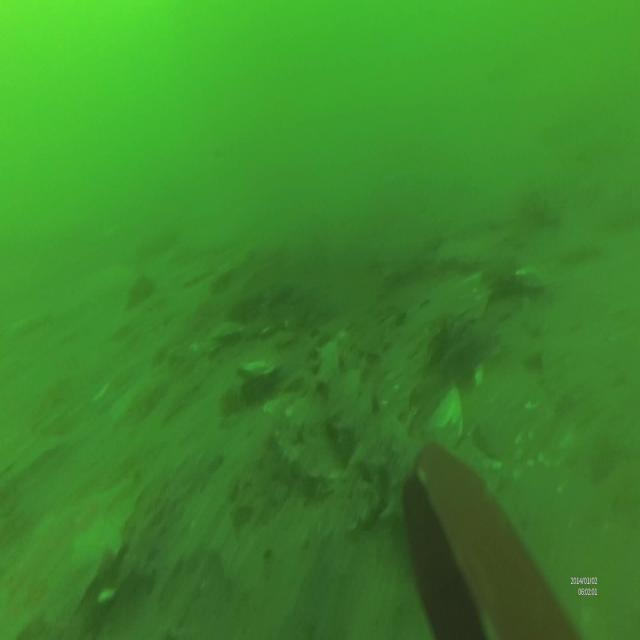holothurian: (315, 337, 426, 530)
starfish: (0, 471, 149, 640)
